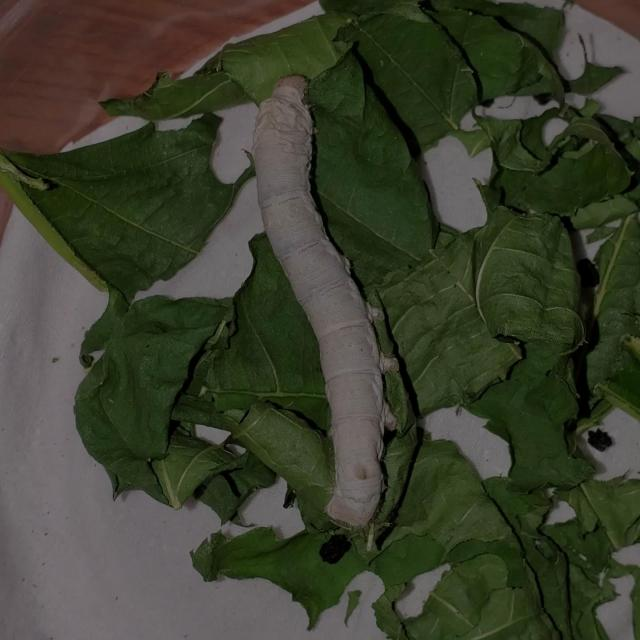Healthy: (205, 37, 419, 591)
